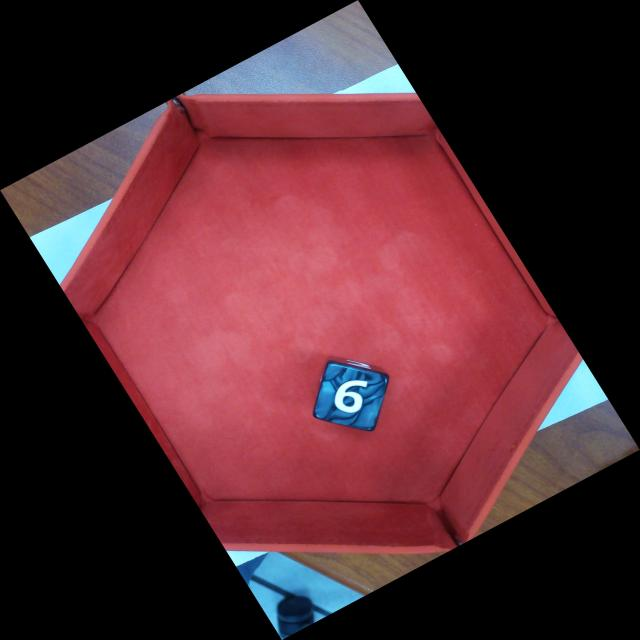dice: (316, 363, 390, 430)
